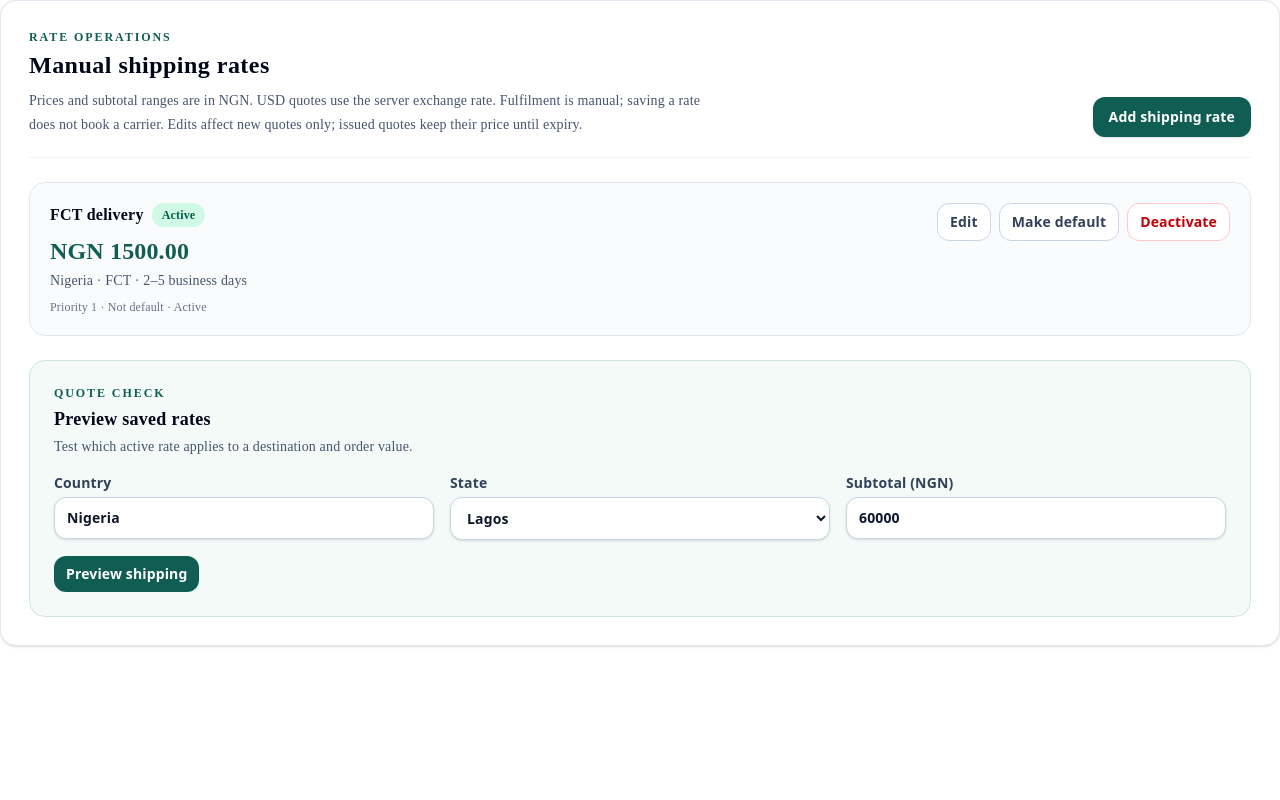
Test: ManualShippingSettings › preserves a legacy FCT rate value while it is being edited
What coordinates should you click on to do the following:
click the button named "Edit FCT delivery"
I would click on:
 (964, 222)
Its box is [937,203,991,241].
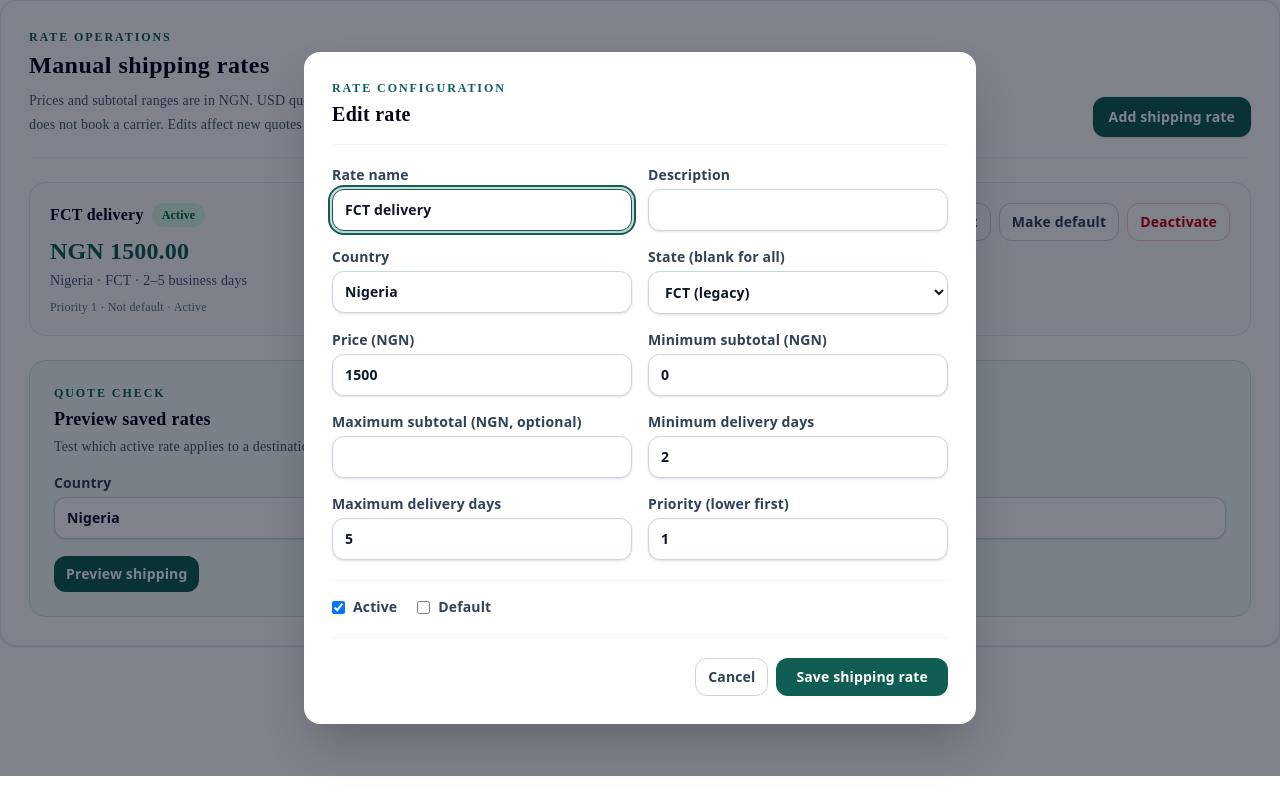
Expected: the dropdown labelled "State (blank for all)" shows "FCT (legacy)", [648,271,948,314]
